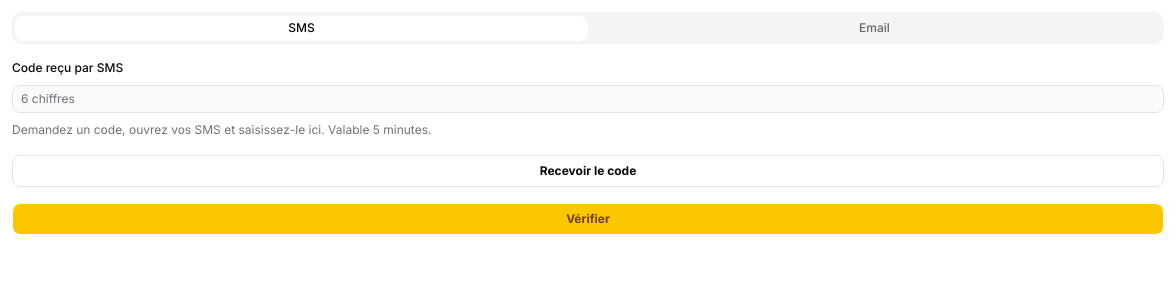
Test: Verify2faForm — méthode d'envoi demandée › envoie par SMS par défaut et l'annonce
Click the button "Recevoir le code".
click(588, 170)  # box [12,154,1164,186]
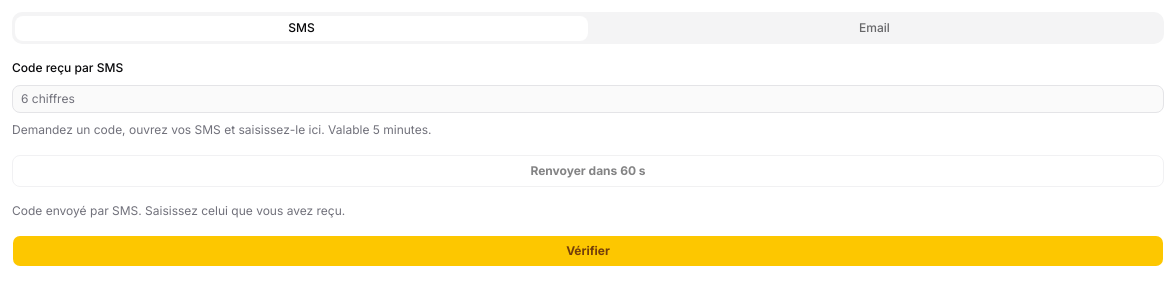
Result: the text "Code envoyé par SMS. Saisissez celui que vous avez reçu." is shown at [12,202,345,218]
